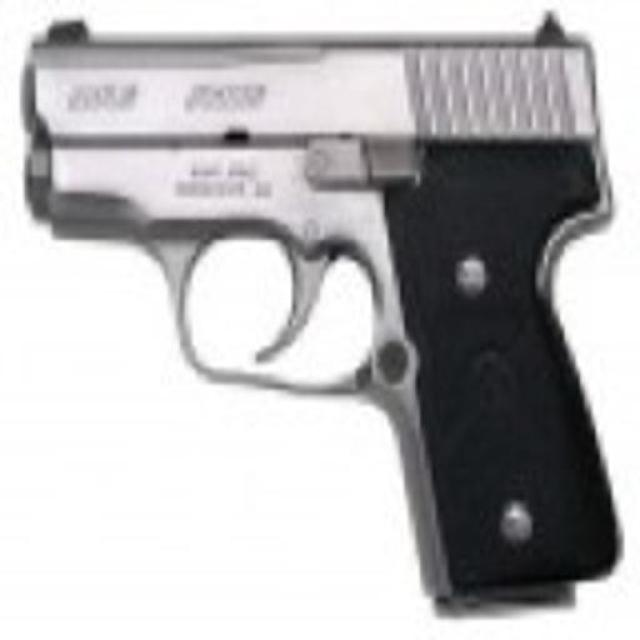pistol: (27, 15, 620, 612)
